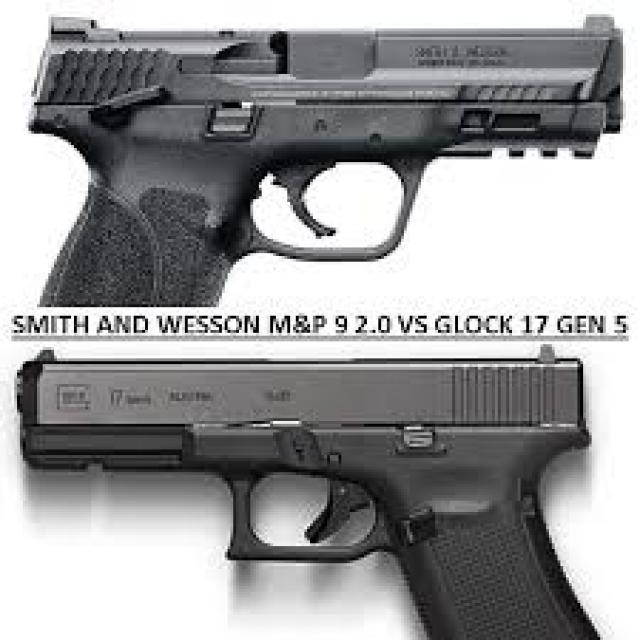semi automatic: (4, 3, 639, 629)
